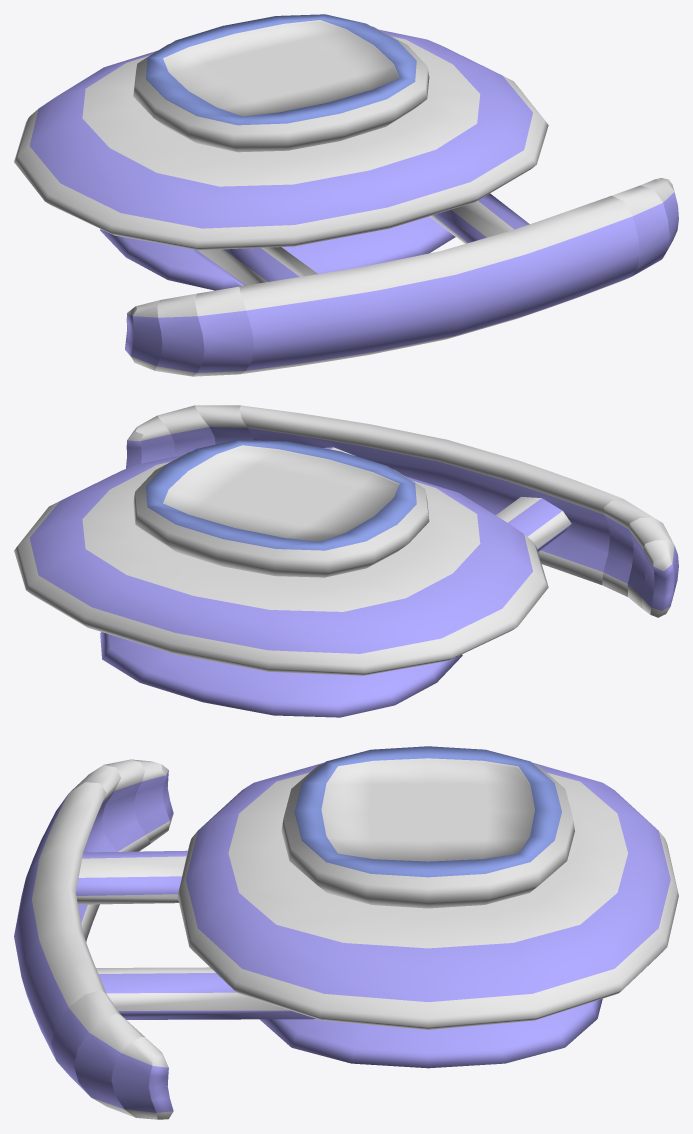
File: Paddle.fbx
3 renders of one model, top to bottom at view 1: azimuth 30°, elevation 25°; view 2: azimuth 150°, elevation 25°; view 3: azimuth 270°, elevation 25°, orthographic. The views are drawn at different scales.
Visible parts, largest first — view 1: Cube.055, Cube.053, Cube.054, Cube.050, Cube.051, Cube.052; view 2: Cube.055, Cube.054, Cube.053, Cube.050, Cube.051; view 3: Cube.055, Cube.054, Cube.053, Cube.050, Cube.052, Cube.051.
Boxes of the visible parts, x1,y1,x2,y2 form: Cube.055: [14, 29, 548, 250]; Cube.053: [125, 178, 678, 376]; Cube.054: [133, 14, 429, 152]; Cube.050: [100, 216, 455, 290]; Cube.051: [193, 247, 317, 285]; Cube.052: [430, 193, 529, 243]; Cube.055: [14, 455, 548, 675]; Cube.054: [133, 439, 429, 577]; Cube.053: [126, 405, 678, 617]; Cube.050: [100, 632, 462, 717]; Cube.051: [496, 497, 571, 552]; Cube.055: [177, 762, 678, 1029]; Cube.054: [281, 746, 574, 908]; Cube.053: [14, 759, 173, 1119]; Cube.050: [260, 999, 602, 1068]; Cube.052: [96, 967, 315, 1019]; Cube.051: [76, 850, 187, 904].
Size of the model in its own units: 626 by 180 by 586.
